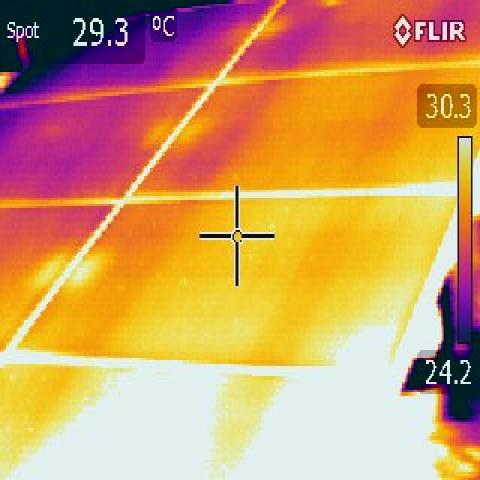fault: (333, 312, 398, 371), (68, 249, 103, 292)
